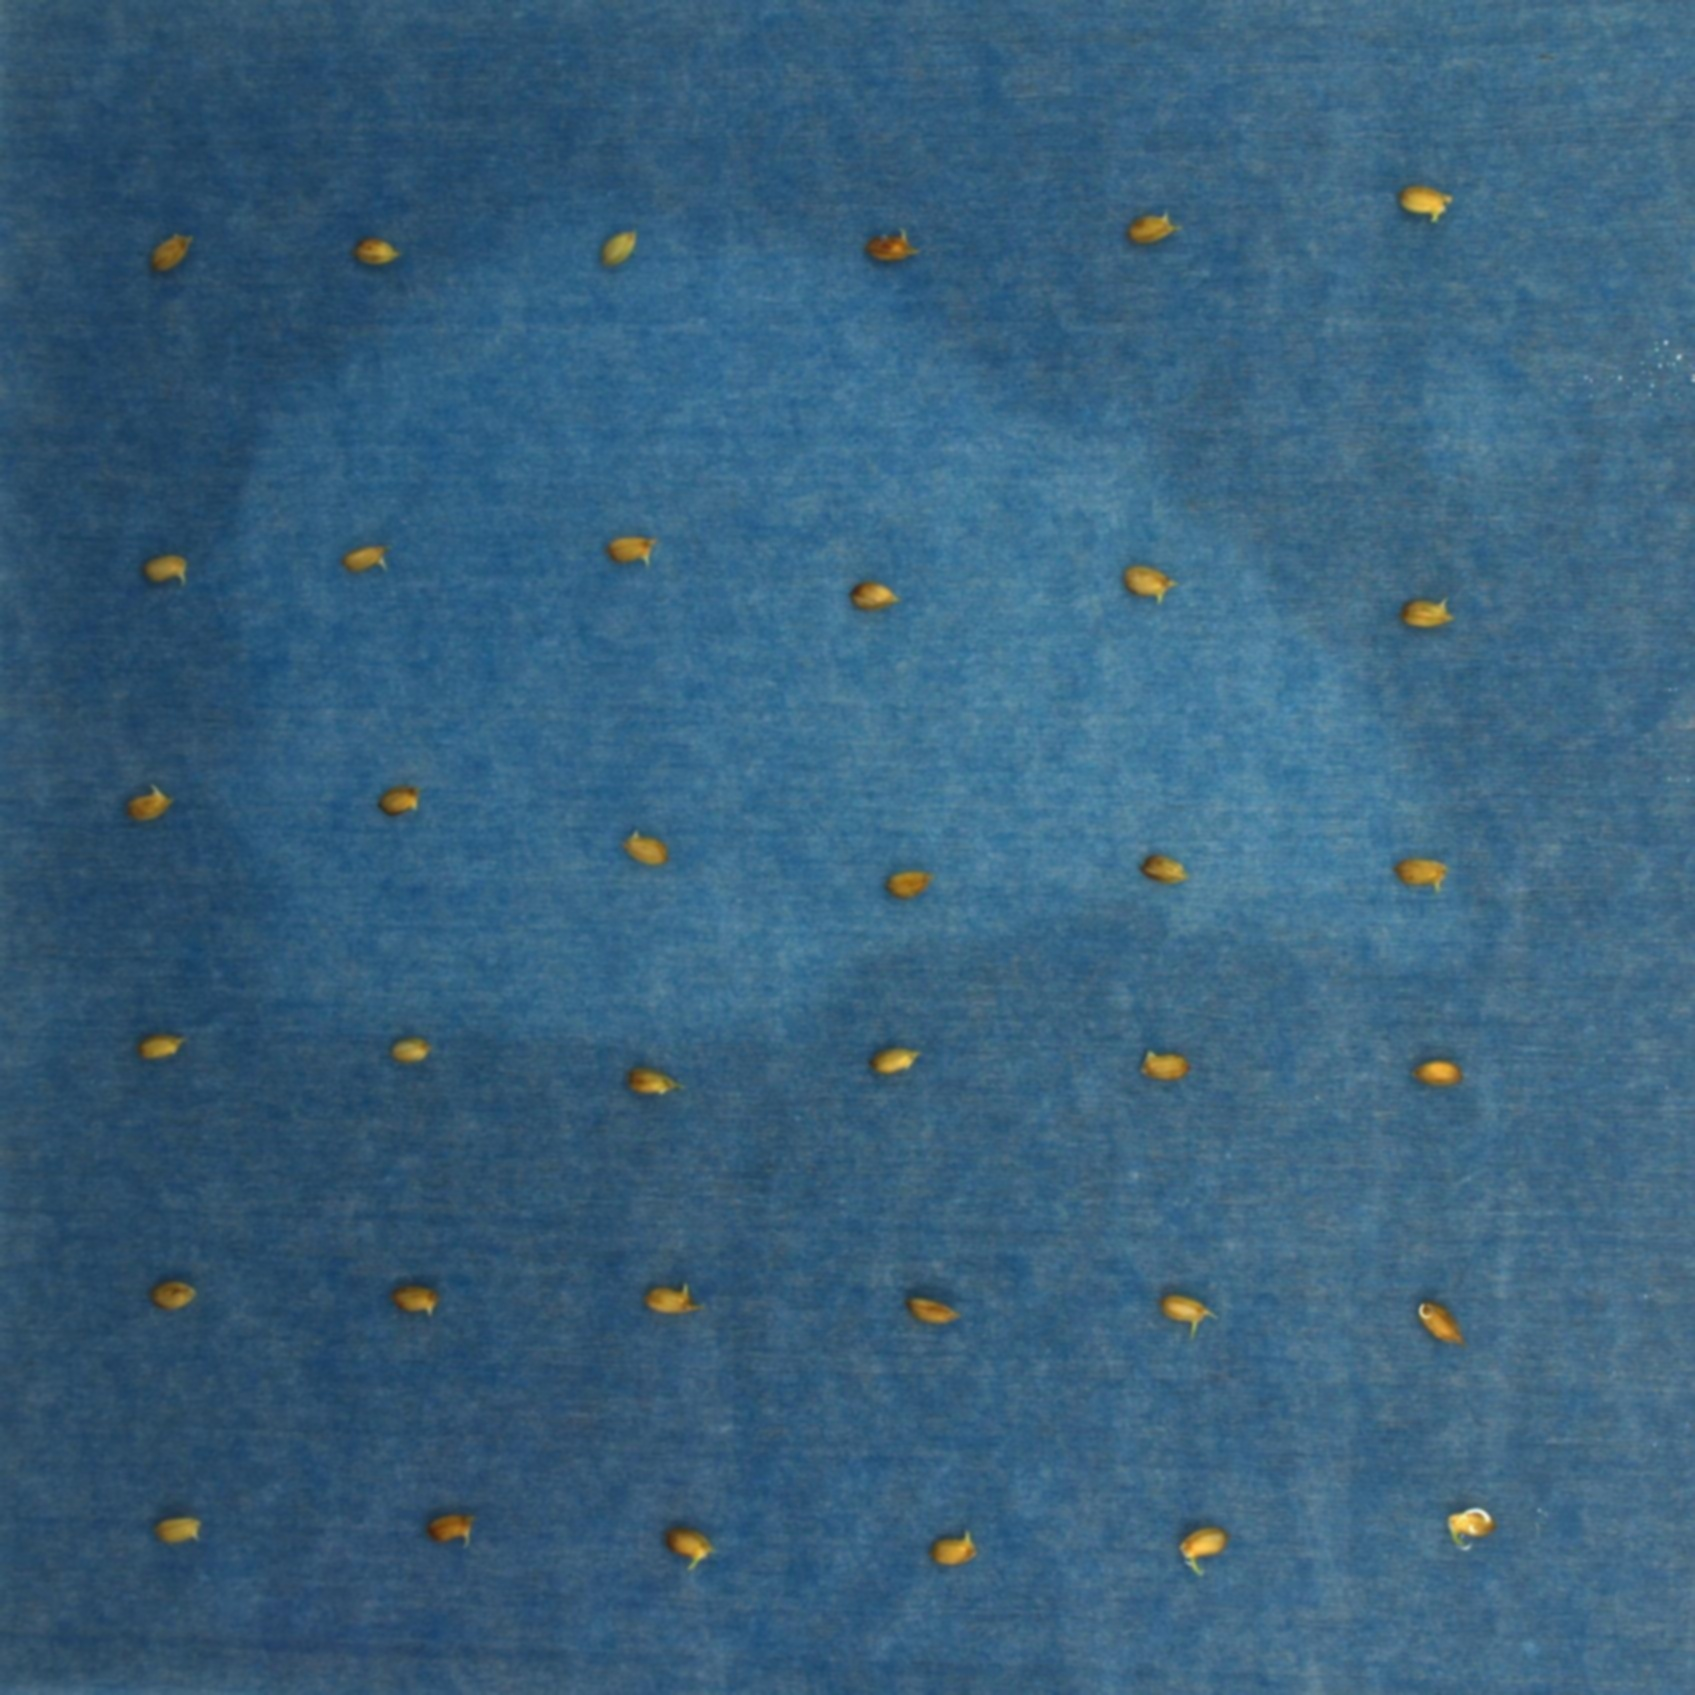not sprout: (1156, 1287, 1218, 1343), (1118, 562, 1183, 613), (1173, 1521, 1225, 1580), (1442, 1503, 1495, 1555), (1394, 185, 1454, 227), (861, 227, 925, 264), (618, 1063, 680, 1101), (664, 1520, 709, 1571), (1397, 851, 1450, 893), (424, 1510, 477, 1552), (335, 540, 394, 577), (144, 1513, 203, 1551), (1133, 851, 1189, 889), (594, 225, 638, 275), (1122, 210, 1173, 251), (903, 1290, 961, 1327), (123, 781, 172, 823), (1417, 1302, 1464, 1346), (1399, 591, 1454, 627), (369, 781, 421, 818), (622, 827, 669, 868), (1136, 1052, 1191, 1087), (144, 237, 194, 275), (930, 1530, 976, 1569), (604, 532, 657, 567), (844, 579, 894, 615), (393, 1276, 438, 1313), (880, 869, 931, 902), (129, 1026, 180, 1059), (345, 239, 400, 269), (140, 556, 192, 587), (868, 1045, 917, 1077), (643, 1284, 691, 1315), (143, 1279, 192, 1309), (382, 1038, 432, 1066), (1412, 1062, 1462, 1083)
